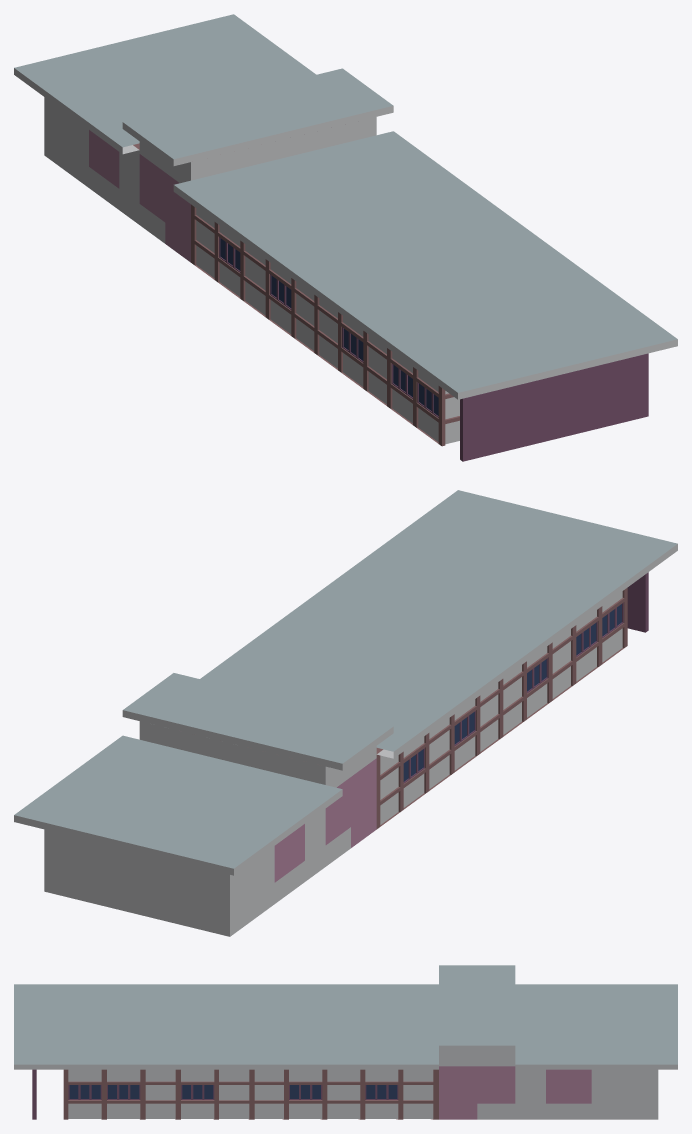
Rendered from Building_9.fbx.
The picture shows the model from 3 angles, top to bottom: view 1: azimuth 30°, elevation 25°; view 2: azimuth 150°, elevation 25°; view 3: azimuth 270°, elevation 25°; orthographic projection. The views are drawn at different scales.
Visible parts, largest first — view 1: Building_9; view 2: Building_9; view 3: Building_9.
Part boxes in pixels (x1=…): Building_9: x1=14, y1=14, x2=677, y2=461; Building_9: x1=14, y1=490, x2=677, y2=936; Building_9: x1=14, y1=965, x2=677, y2=1119.
Bounding box in the file's own units: 13.26 × 6.19 × 46.38.
